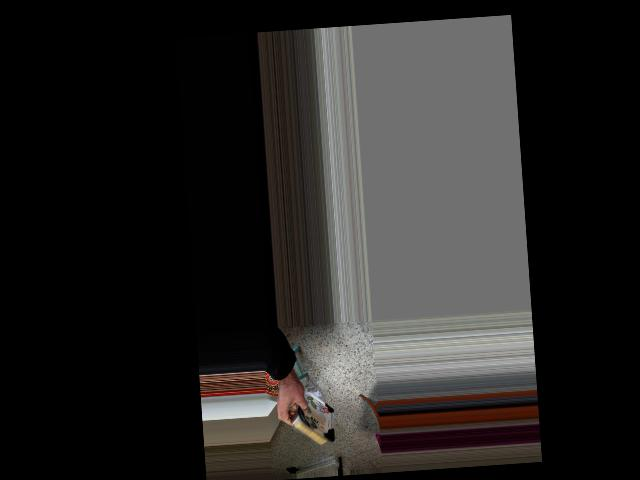cheese: (272, 391, 353, 461)
